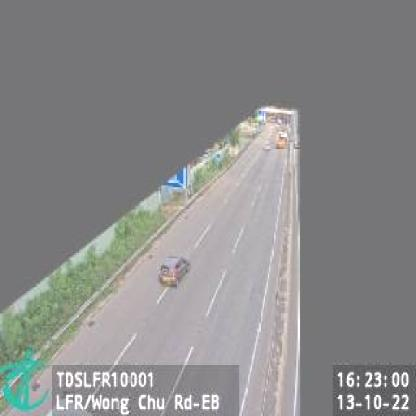Car: (160, 255, 190, 288)
